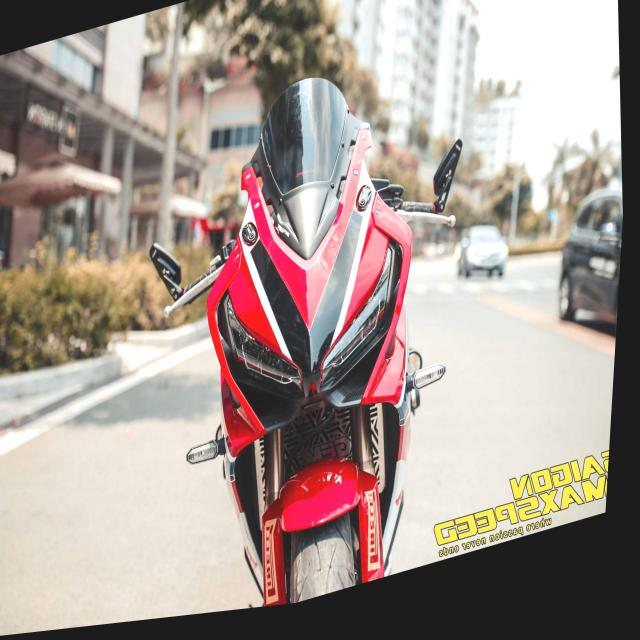CBR650R: (124, 36, 502, 626)
